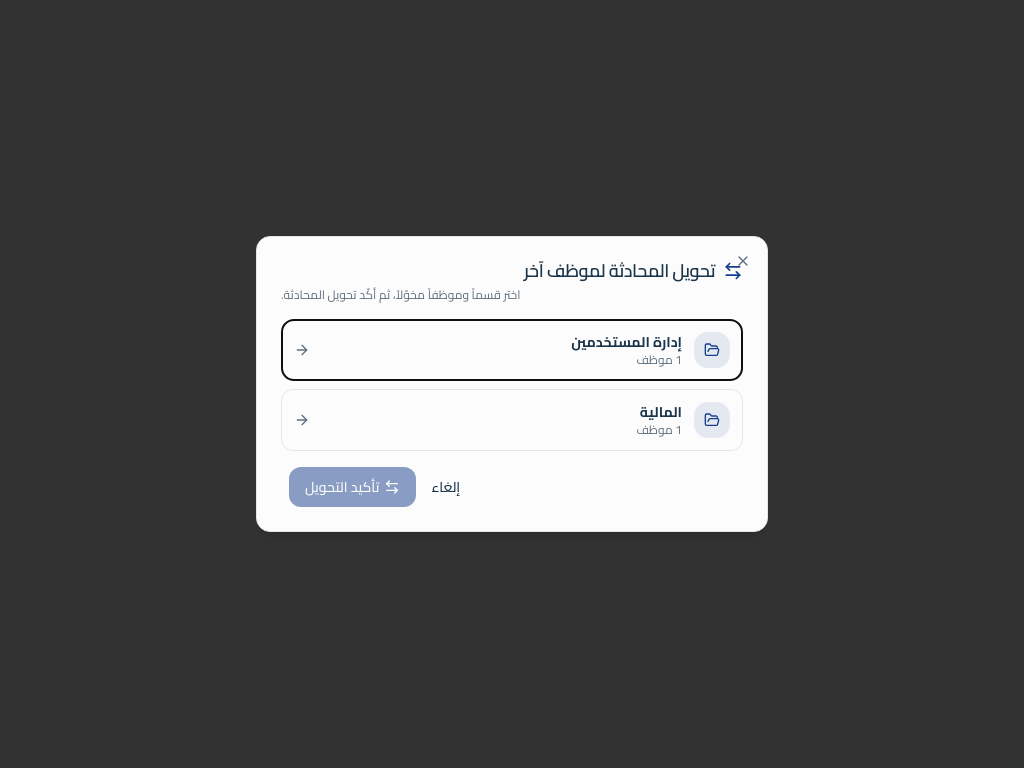
Scenario: SupportTransferDialog › shows departments first, then only the agents assigned to the selected department
Click the button with test id "transfer-department-support_department_users" at (712, 350), box x1=281 y1=319 x2=743 y2=381
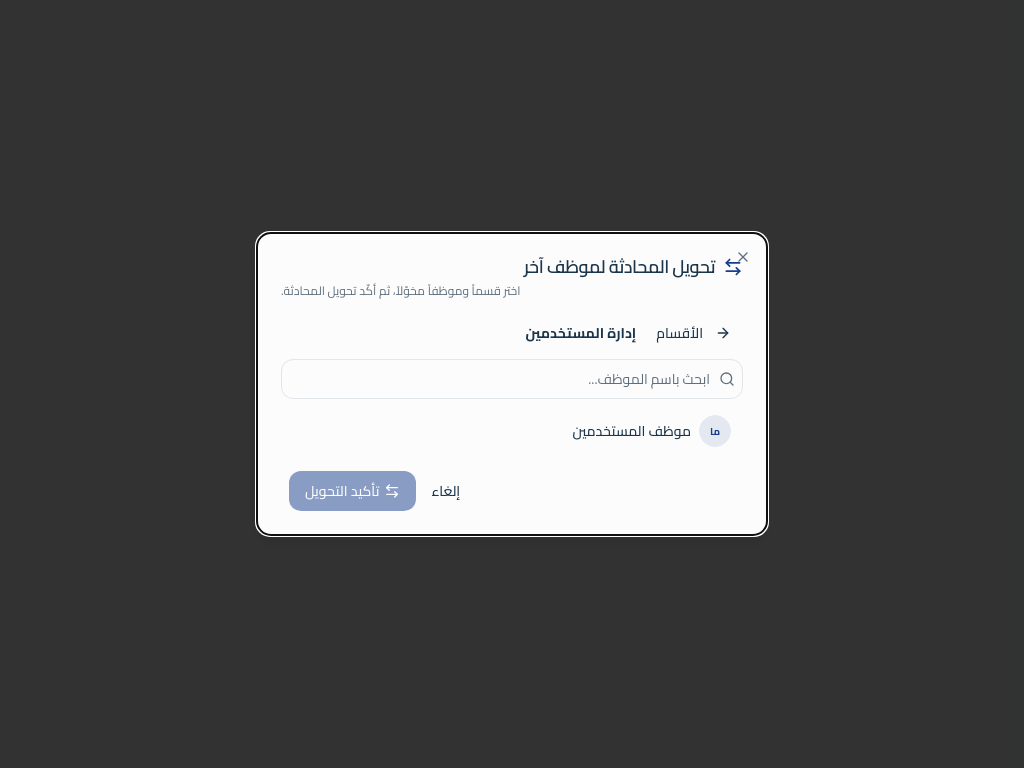
Expected: the text "موظف المستخدمين" is shown, x1=572 y1=421 x2=691 y2=441
Expected: the text "موظف المالية" is gone
